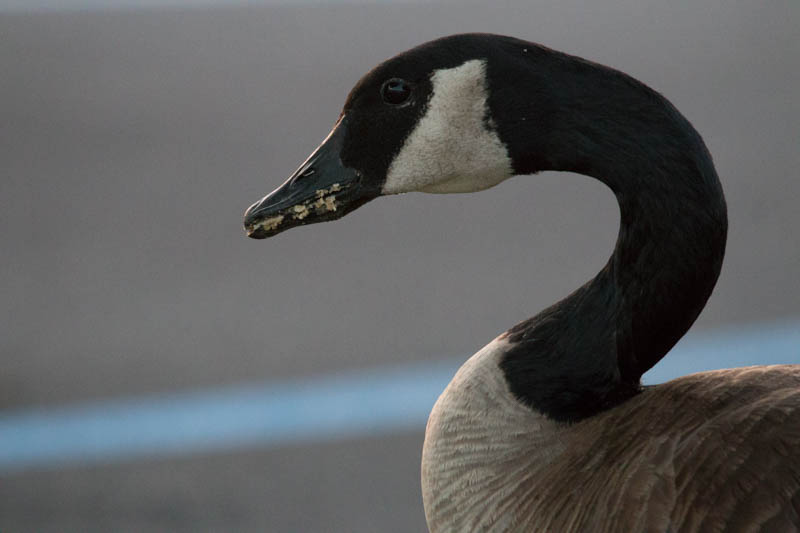goose-head: (242, 32, 569, 240)
